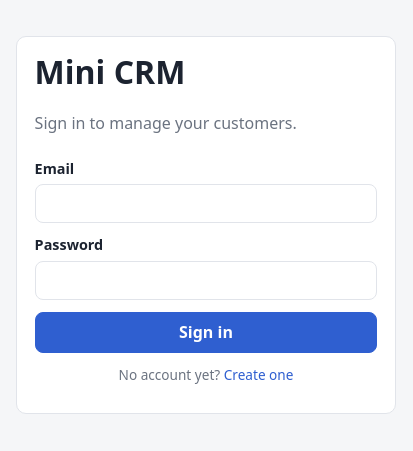
App › shows an error for a wrong password and stays on the login page
In the field labelled "Email": {"x": 206, "y": 204} [35,184,377,223], type "a@b.com"
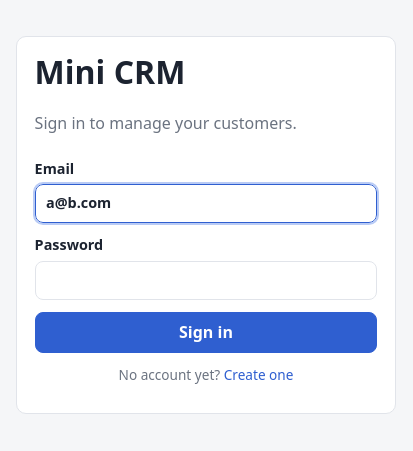
In the password field labelled "Password": {"x": 206, "y": 280} [35,261,377,300], type "badpassword"
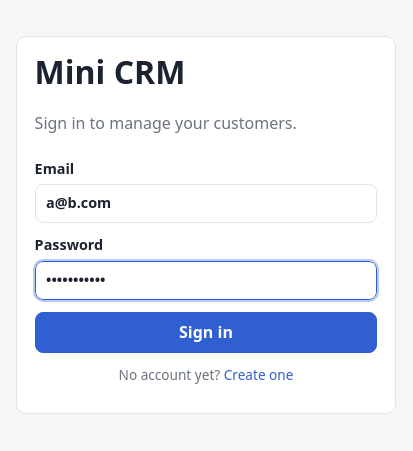
Click the button "Sign in": {"x": 206, "y": 332} [35,312,377,353]
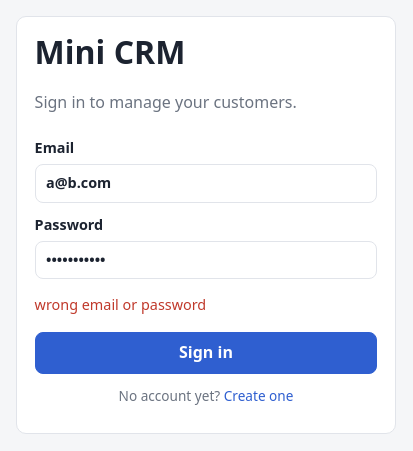
Now the message reads "wrong email or password", box [35,295,206,314]
